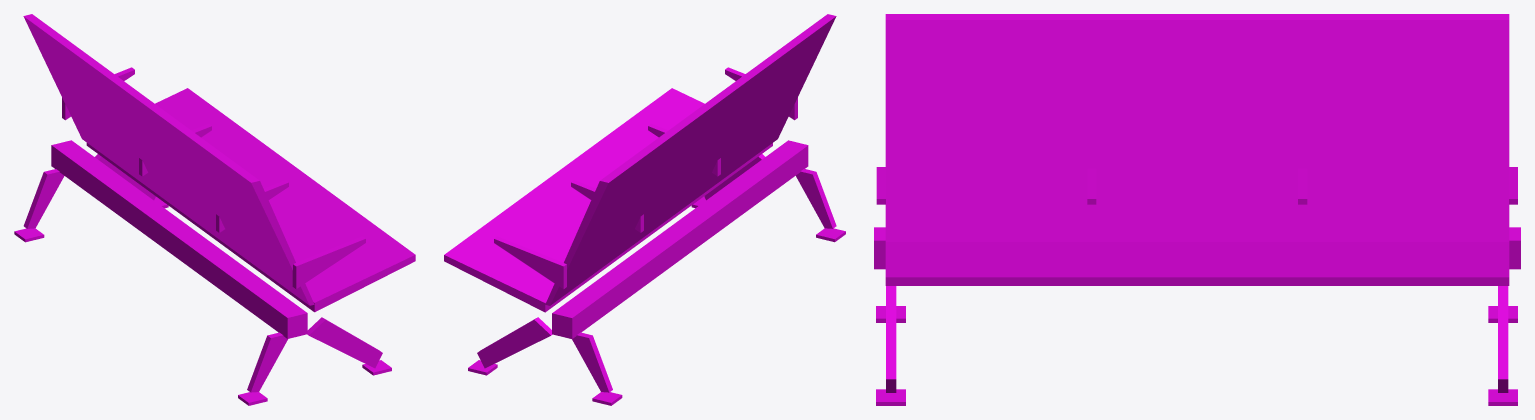
The model's file is SM_flyawayChairCollider.fbx.
The picture shows the model from 3 angles, left to right: view 1: azimuth 30°, elevation 25°; view 2: azimuth 150°, elevation 25°; view 3: azimuth 270°, elevation 25°; orthographic projection. The views are drawn at different scales.
Parts seen in each view (by area): view 1: flyawayChairCollision; view 2: flyawayChairCollision; view 3: flyawayChairCollision.
Part boxes in pixels (<box>): flyawayChairCollision: <box>14,14,415,405</box>; flyawayChairCollision: <box>444,14,845,405</box>; flyawayChairCollision: <box>874,14,1520,405</box>.
Size of the model in its own units: 81.31 by 100 by 195.
